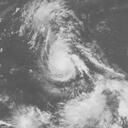cyclone: (23, 0, 110, 99)
